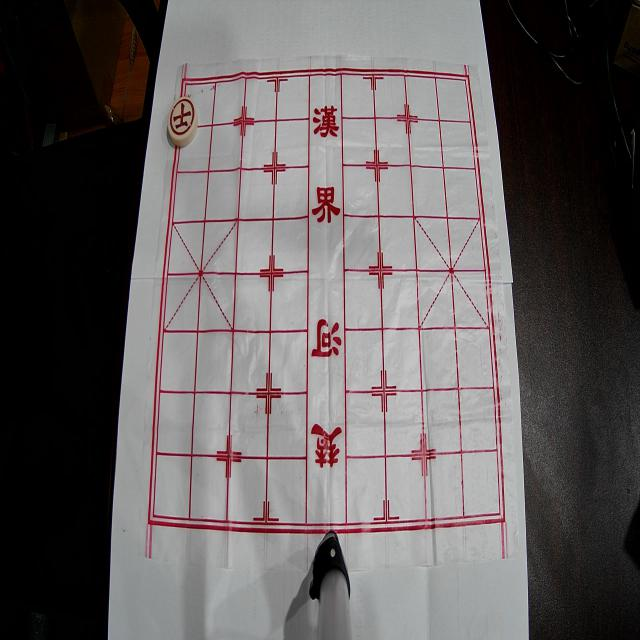red-guard: (168, 97, 198, 147)
